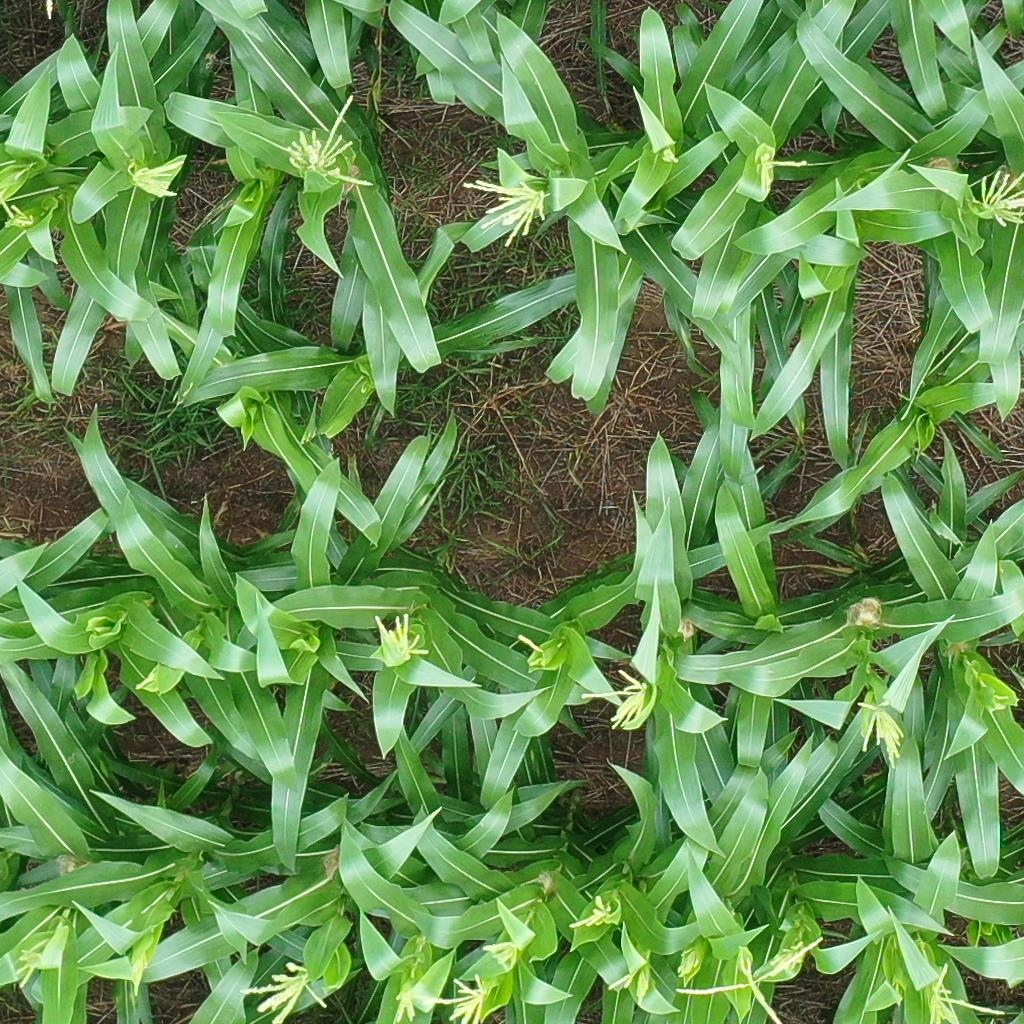Tassel: (675, 928, 828, 1024), (281, 96, 371, 187), (460, 172, 551, 248), (238, 960, 328, 1023), (924, 957, 1008, 1024), (577, 667, 648, 730), (854, 699, 909, 767), (974, 167, 1024, 229), (434, 976, 495, 1024), (369, 613, 429, 660), (126, 160, 185, 196), (754, 151, 806, 191), (387, 983, 436, 1023), (604, 970, 653, 1008), (568, 892, 612, 930), (1, 185, 37, 230), (14, 948, 46, 992), (517, 632, 551, 670), (482, 941, 523, 970), (981, 687, 1008, 716), (658, 145, 682, 166)
